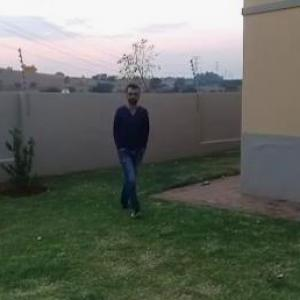follow: (113, 82, 157, 212)
